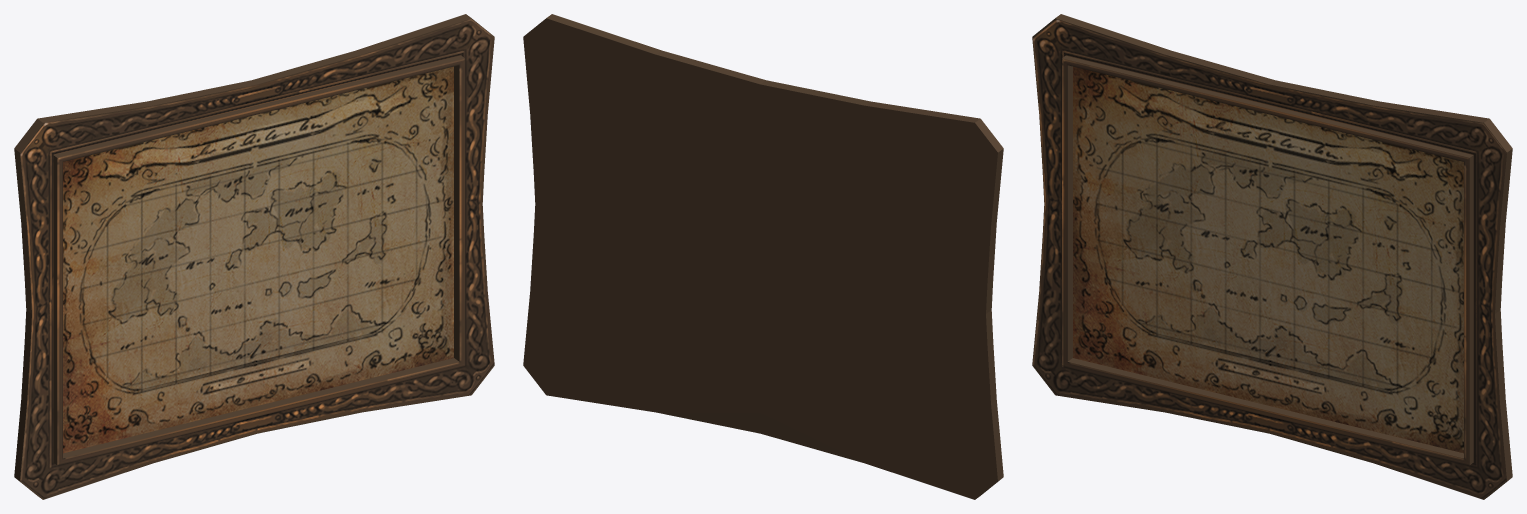
File: sb_obj_indoor011_Painting03.fbx
3 views of the same model, side by side, from view 1: azimuth 30°, elevation 25°; view 2: azimuth 150°, elevation 25°; view 3: azimuth 330°, elevation 25° (orthographic).
Visible parts, largest first — view 1: Plane; view 2: Plane; view 3: Plane.
Part boxes in pixels (x1=…): Plane: x1=14, y1=14, x2=494, y2=499; Plane: x1=523, y1=14, x2=1003, y2=499; Plane: x1=1032, y1=14, x2=1512, y2=499.
Bounding box in the file's own units: 1.64 × 1.25 × 0.0575.
